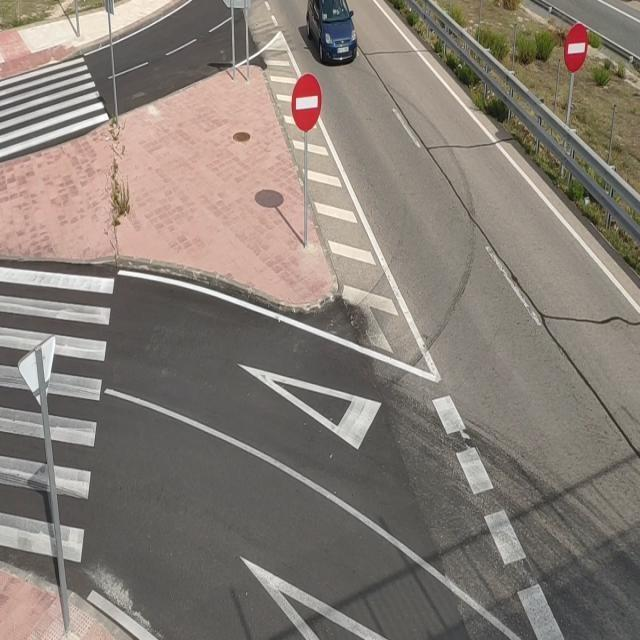Car: (304, 0, 357, 67)
